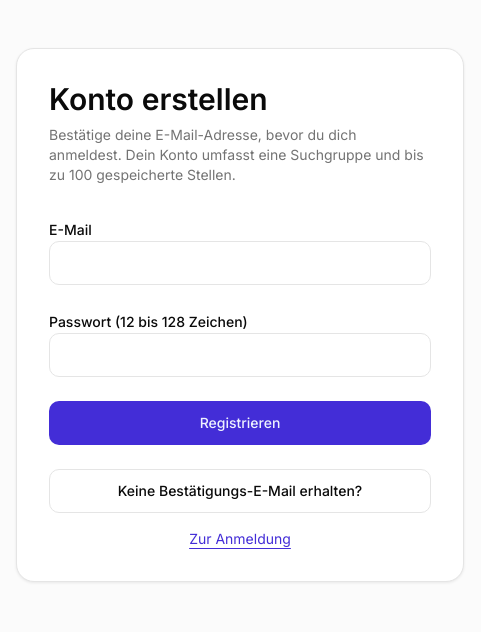
zeigt API- und unerwartete Registrierungsfehler (false)
Type "USER@example.test" into the field labelled "E-Mail" at (240, 263), box [49,241,431,285]
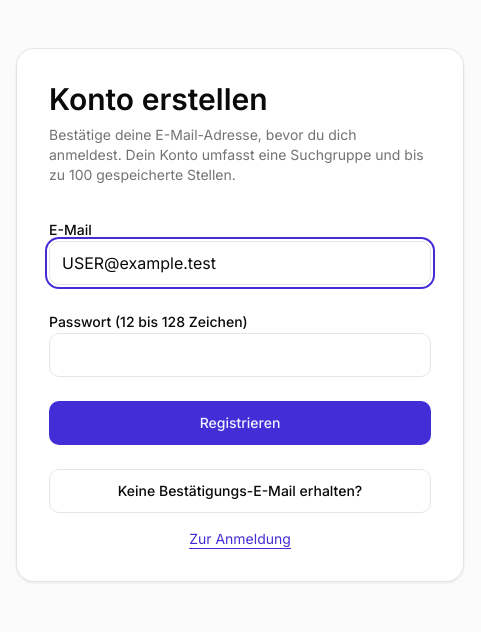
Type "Test-Passwort-2026" into the password field labelled "Passwort (12 bis 128 Zeichen)" at (240, 355), box [49,333,431,377]
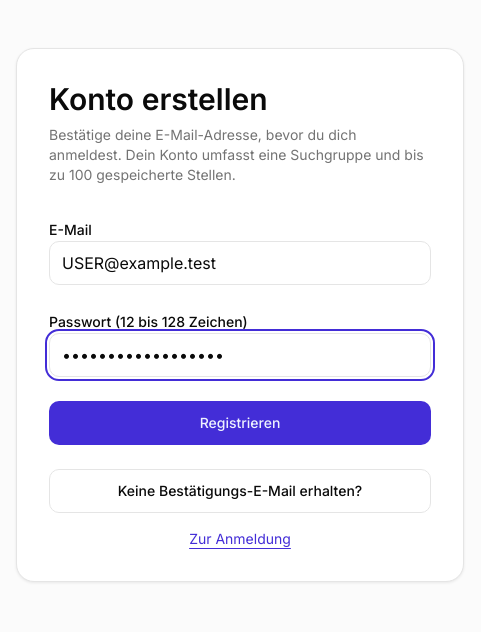
Click the button "Registrieren" at (240, 423), box [49,401,431,445]
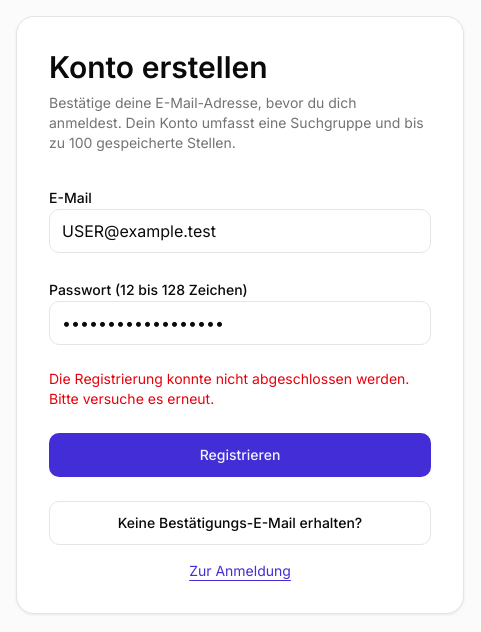
Result: the text "Die Registrierung konnte nicht abgeschlossen werden. Bitte versuche es erneut." is shown at [49,369,431,409]
